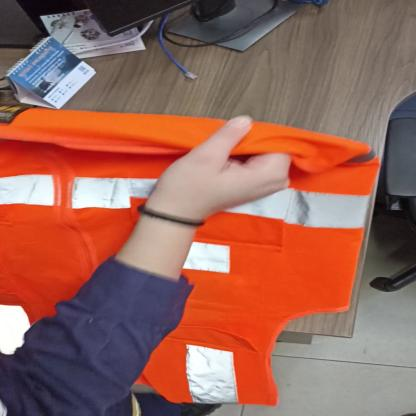colete: (0, 108, 380, 406)
